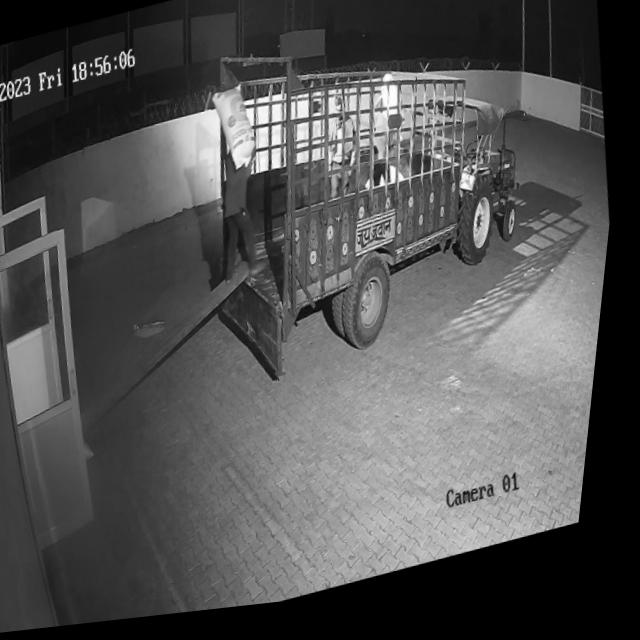sack: (207, 84, 267, 183)
